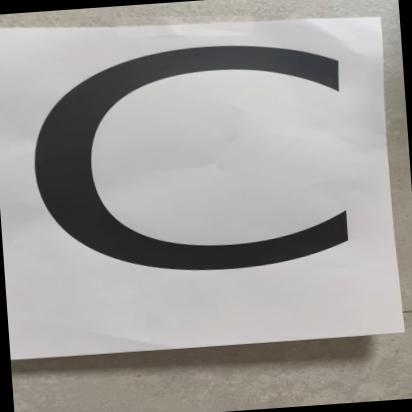seat: (0, 11, 374, 361)
